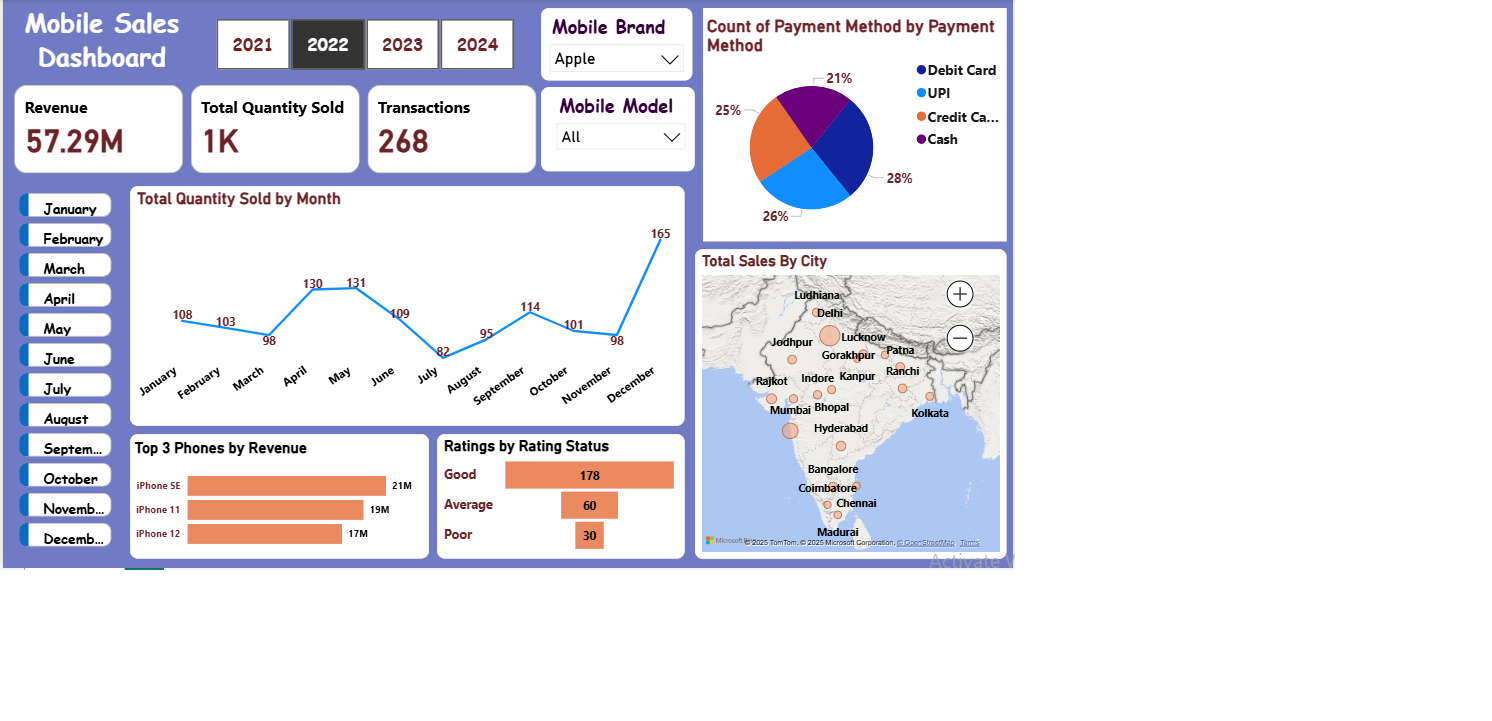

What the dashboard file says about the page in this screenshot:
{"tool":"powerbi","page":{"name":"Dashboard","canvas":[1280,720],"ordinal":0},"visuals":[{"type":"textbox","box":[9.7,0,230.7,109.8],"z":0},{"type":"advancedSlicerVisual","fields":{"Values":["Date_Calendar.Date.Variation.Date Hierarchy.Month"]},"box":[11,236.3,135,472.6],"z":1000},{"type":"cardVisual","fields":{"Data":["Sales_Data.Revenue","Sales_Data.Total_Quantity","Sales_Data.Transactions"]},"box":[9.7,102.9,672.7,122.3],"z":2000},{"type":"pieChart","fields":{"Category":["Sales_Data.Payment Method"],"Y":["CountNonNull(Sales_Data.Payment Method)"]},"box":[886.8,9.7,385,296.1],"z":3000},{"type":"slicer","fields":{"Values":["Sales_Data.Mobile Model"]},"box":[682.5,109.8,194.6,107],"z":4000},{"type":"slicer","fields":{"Values":["Sales_Data.Brand"]},"box":[682.5,9.7,191.8,91.7],"z":5000},{"type":"map","title":"Total Sales By City","fields":{"Category":["Sales_Data.City"],"Size":["CountNonNull(Sales_Data.City)"]},"box":[877.1,315.5,394.7,393.4],"z":6000},{"type":"lineChart","fields":{"Category":["Date_Calendar.Date.Variation.Date Hierarchy.Month"],"Y":["Sales_Data.Total Quantity Sold"]},"box":[161.2,236.3,703.3,304.4],"z":7000},{"type":"funnel","title":" Ratings by Rating Status","fields":{"Category":["Sales_Data.Rating Status"],"Y":["CountNonNull(Sales_Data.Customer Ratings)"]},"box":[550.4,550.4,314.1,158.5],"z":8000},{"type":"clusteredBarChart","title":"Top 3 Phones by Revenue","fields":{"Y":["Sales_Data.Revenue"],"Category":["Sales_Data.Mobile Model"]},"box":[161.2,550.4,379.5,158.5],"z":9000},{"type":"slicer","fields":{"Values":["Date_Calendar.Date.Variation.Date Hierarchy.Year"]},"box":[250.2,9.7,417,92],"z":10000}]}

Visuals, with their boxes on the page's 1280x720 design canvas (x1, y1, x2, y2). These are canvas units, not pixel positions in the 1492x721 screenshot, which may show the page scaled, cropped or inside an application window:
textbox: 10/0/240/110
advancedSlicerVisual - Date_Calendar.Date.Variation.Date Hierarchy.Month: 11/236/146/709
cardVisual - Sales_Data.Revenue x Sales_Data.Total_Quantity: 10/103/682/225
pieChart - Sales_Data.Payment Method x CountNonNull(Sales_Data.Payment Method): 887/10/1272/306
slicer - Sales_Data.Mobile Model: 682/110/877/217
slicer - Sales_Data.Brand: 682/10/874/101
"Total Sales By City" map: 877/316/1272/709
lineChart - Date_Calendar.Date.Variation.Date Hierarchy.Month x Sales_Data.Total Quantity Sold: 161/236/864/541
" Ratings by Rating Status" funnel: 550/550/864/709
"Top 3 Phones by Revenue" clusteredBarChart: 161/550/541/709
slicer - Date_Calendar.Date.Variation.Date Hierarchy.Year: 250/10/667/102
